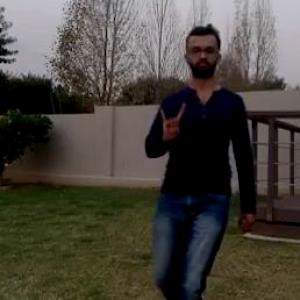takeoff-hand: (155, 98, 187, 143)
